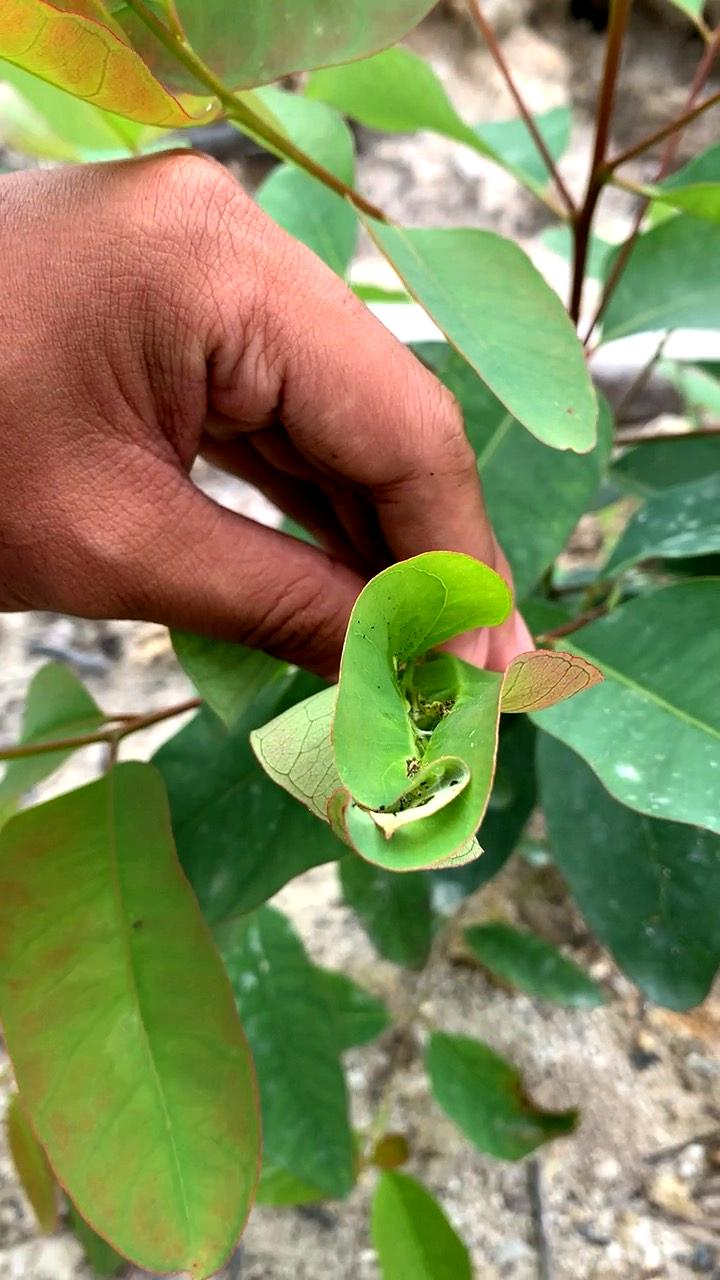Leaf Roller - Leaf: (273, 521, 576, 906)
